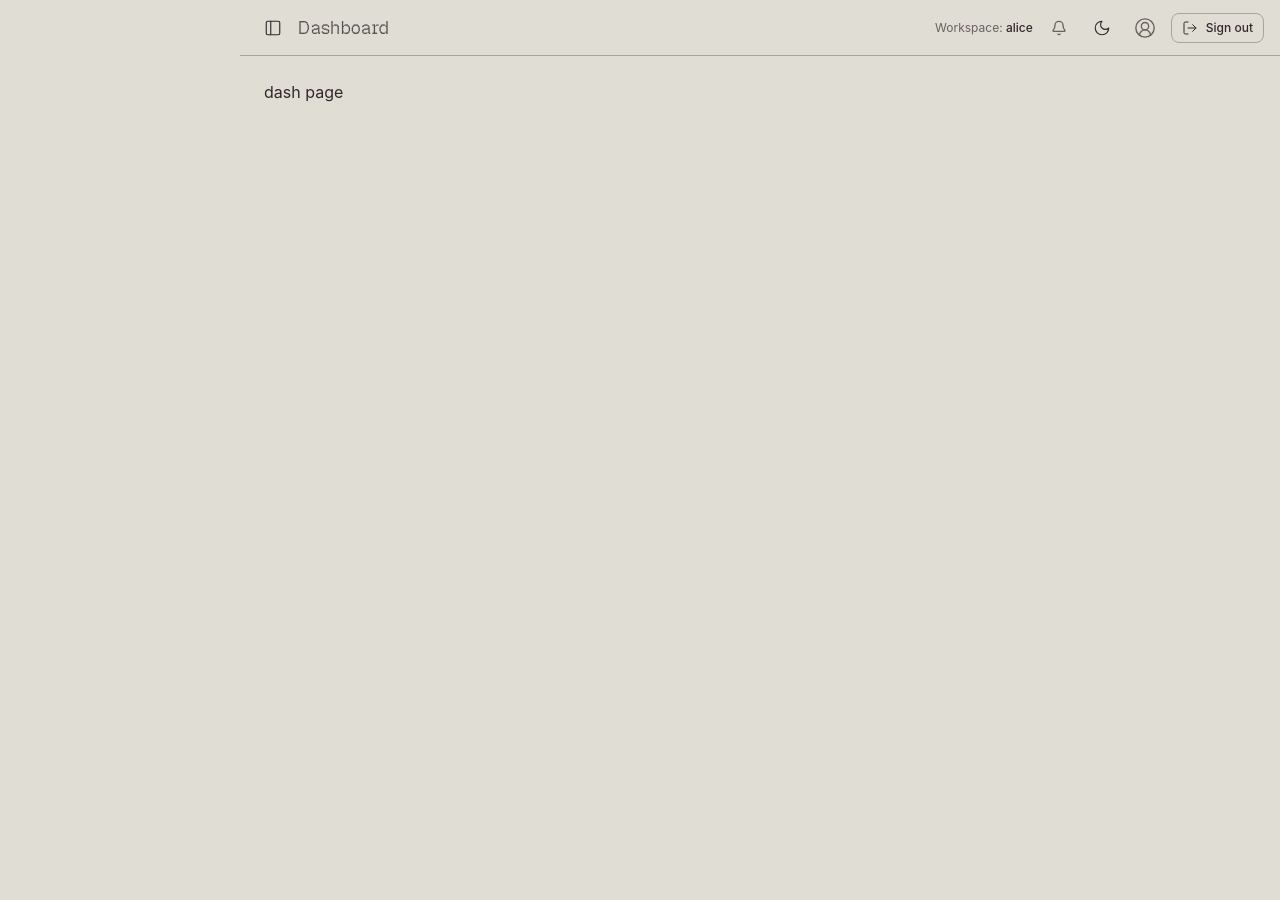
Test: AppLayout — header › theme button: tooltip text follows the theme and clicking switches it
Expected: the text "alice" is shown, [1006, 20, 1033, 34]
Click the button named "Switch to dark mode".
click(1102, 28)  # box [1085, 10, 1119, 44]
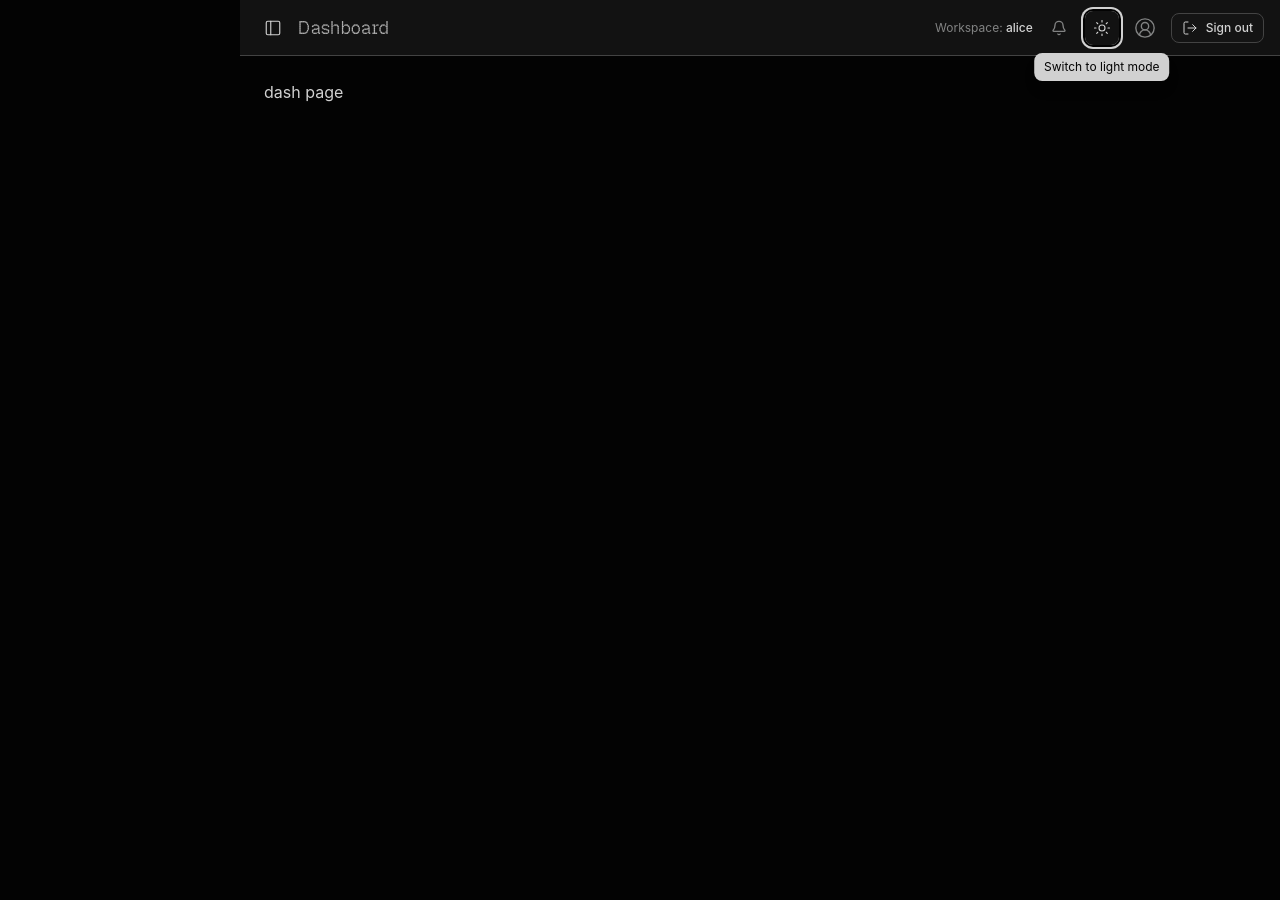
Result: the button named "Switch to light mode" is shown at [1085, 10, 1119, 44]
Result: the text "Switch to light mode" is shown at [1034, 52, 1170, 80]
